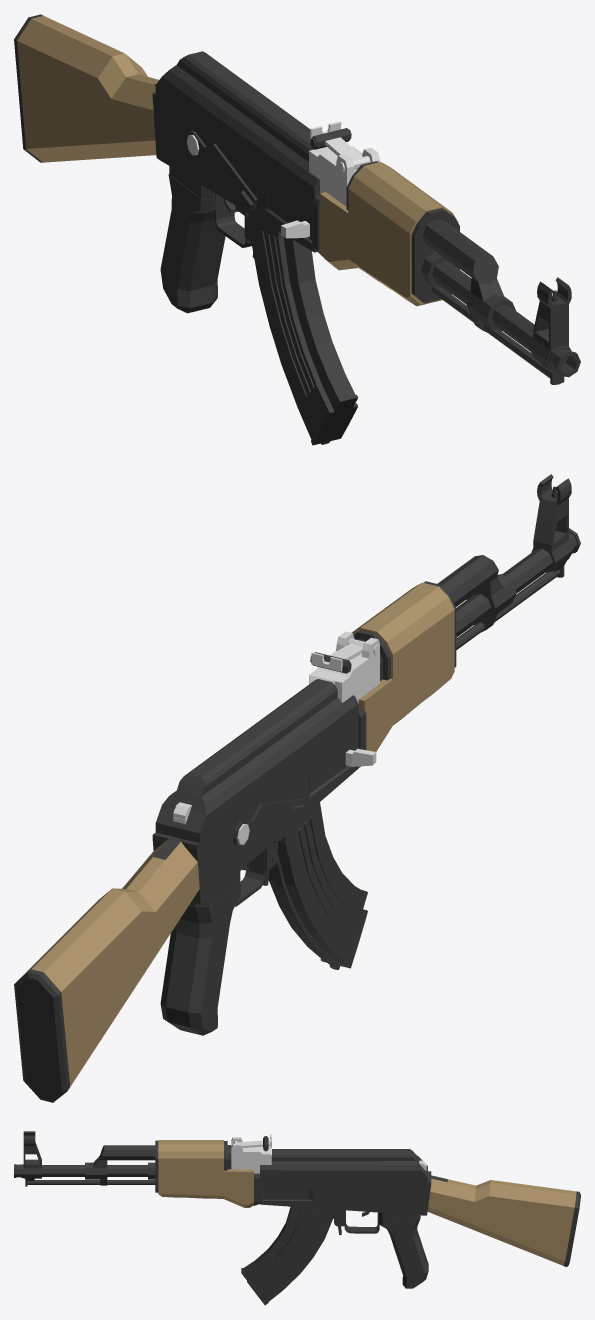
Rendered from Weapon_7.fbx.
3 views of the same model, one above another, from view 1: azimuth 30°, elevation 25°; view 2: azimuth 150°, elevation 25°; view 3: azimuth 270°, elevation 25° (orthographic). The views are drawn at different scales.
Parts seen in each view (by area): view 1: Weapon_7; view 2: Weapon_7; view 3: Weapon_7.
Part boxes in pixels (x1,y1,x2,y2): Weapon_7: (14,14,580,445); Weapon_7: (14,474,580,1102); Weapon_7: (14,1131,580,1305).
Bounding box in the file's own units: 12.05 × 51.95 × 156.
